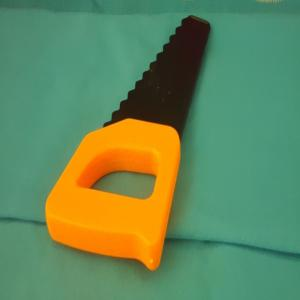serrote: (44, 13, 212, 274)
